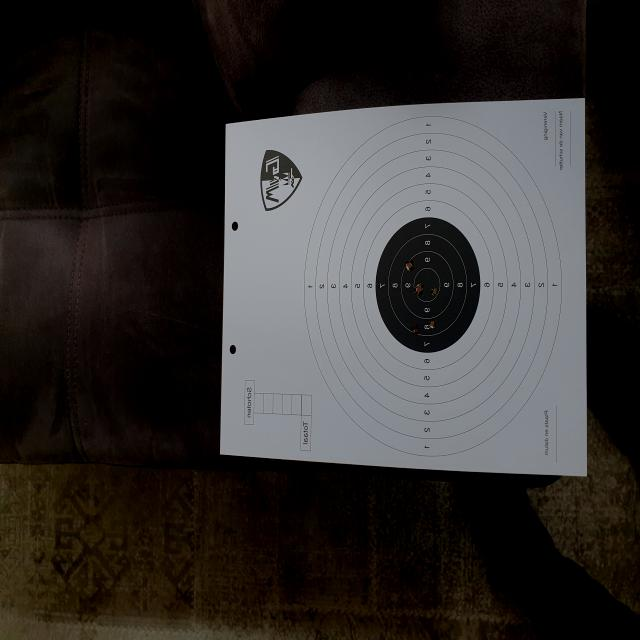10: (413, 283, 424, 298), (431, 286, 439, 298)
8: (428, 318, 437, 330), (411, 325, 420, 336)
9: (404, 260, 414, 272)
Target: (304, 116, 562, 458)
black_contour: (375, 218, 480, 353)
